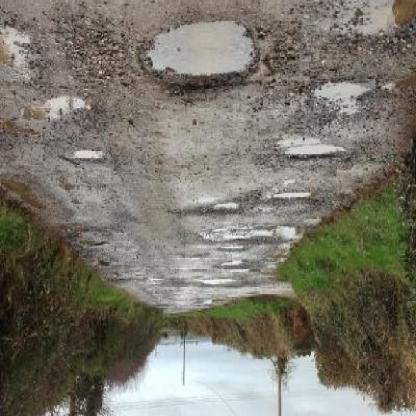pothole: (138, 21, 261, 96), (24, 98, 98, 130), (310, 83, 378, 116), (2, 25, 38, 80), (174, 202, 250, 222), (285, 147, 349, 163), (61, 152, 108, 169), (278, 228, 304, 244), (218, 262, 253, 273)
